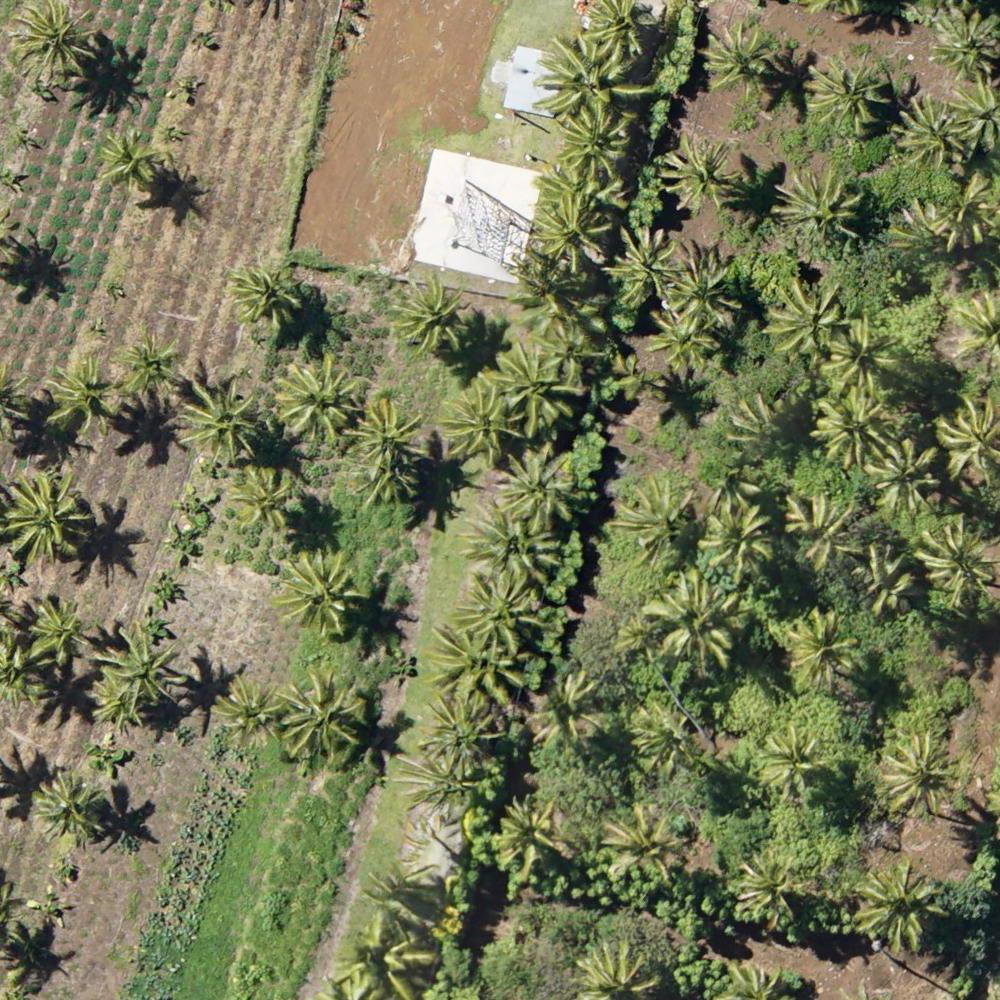Palm: (430, 616, 533, 709), (646, 569, 739, 672), (535, 35, 645, 121), (465, 495, 563, 586), (5, 1, 100, 89), (1, 469, 90, 561), (278, 669, 367, 757), (272, 356, 363, 442), (450, 574, 541, 660), (489, 341, 573, 433), (611, 473, 695, 564), (800, 51, 886, 136), (775, 163, 861, 247), (96, 626, 183, 707), (785, 488, 867, 572), (916, 524, 1000, 605), (498, 447, 581, 528), (814, 384, 895, 466), (179, 380, 259, 462), (423, 696, 512, 769), (278, 555, 358, 635), (390, 277, 472, 355), (862, 868, 938, 952), (765, 280, 847, 357), (606, 806, 691, 880), (348, 398, 428, 476), (224, 255, 302, 334), (882, 734, 962, 811), (441, 382, 519, 460), (892, 91, 967, 172), (532, 314, 606, 396), (787, 610, 863, 689), (736, 848, 811, 928), (42, 354, 115, 436), (663, 133, 740, 210), (820, 317, 899, 391), (496, 796, 567, 878), (933, 393, 1000, 477), (866, 435, 936, 513), (611, 226, 681, 304), (667, 246, 739, 321), (702, 506, 772, 582), (211, 676, 283, 749), (536, 193, 609, 265), (703, 23, 776, 95), (650, 302, 721, 375), (559, 102, 630, 174), (930, 9, 1000, 82), (934, 176, 1000, 253), (633, 700, 699, 776), (28, 773, 99, 841), (107, 331, 180, 396), (757, 726, 824, 795), (231, 464, 298, 532), (25, 597, 88, 667), (96, 131, 161, 196), (581, 1, 655, 58)
